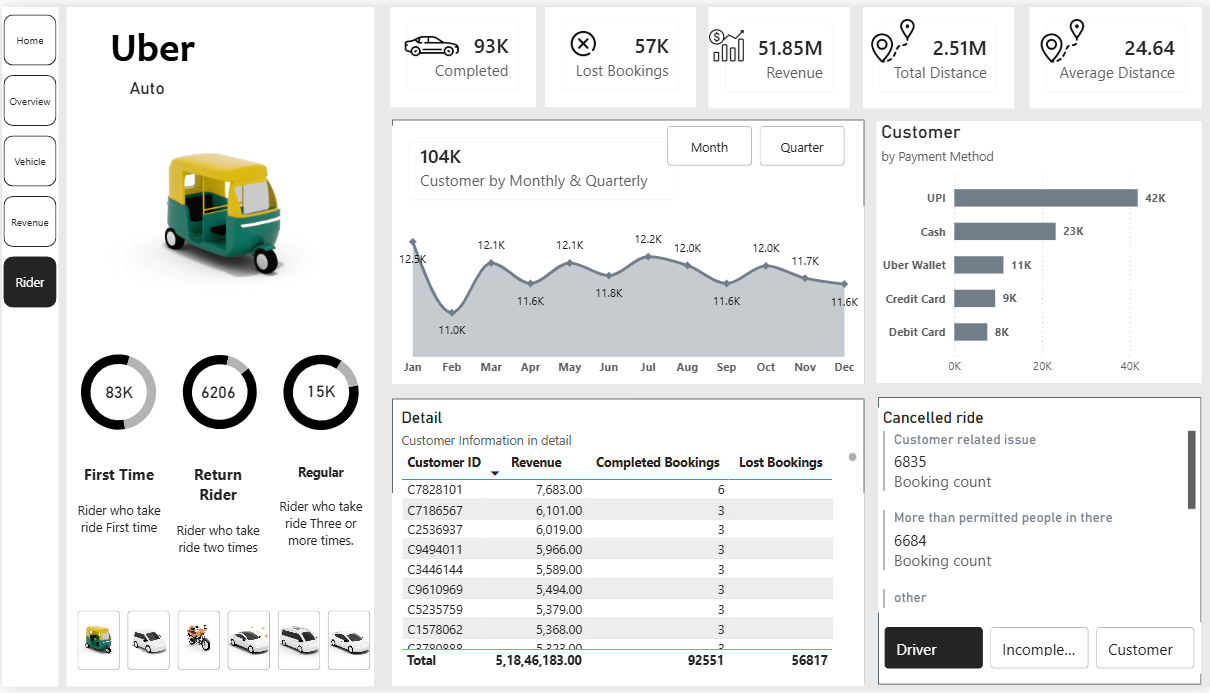

What the dashboard file says about the page in this screenshot:
{"tool":"powerbi","page":{"name":"Rider","canvas":[1280,720],"ordinal":4},"visuals":[{"type":"shape","box":[68.5,0.7,325.4,719],"z":0,"group":"g4"},{"type":"group","id":"g1","title":"Group 2","box":[412,119.5,500,279.4],"z":0,"group":"g5"},{"type":"shape","box":[412,119.5,500,279.4],"z":0,"group":"g1"},{"type":"group","id":"g2","title":"Group 3","box":[413,414.3,500,303.2],"z":0},{"type":"group","id":"g3","title":"Group 2","box":[413,414.3,500,303.2],"z":0,"group":"g2"},{"type":"shape","box":[413,414.3,500,303.2],"z":0,"group":"g3"},{"type":"shape","box":[0,0,59.7,719.4],"z":1000},{"type":"cardVisual","fields":{"Data":["_measure.Customer_count"]},"box":[412,126.3,319.5,96.9],"z":1000,"group":"g5"},{"type":"cardVisual","fields":{"Data":["_measure.Completed Bookings"]},"box":[410.4,0,153.7,106],"z":2000},{"type":"textbox","box":[110.1,12.1,107.1,64.2],"z":2000,"group":"g4"},{"type":"cardVisual","fields":{"Data":["_measure.Lost Bookings"]},"box":[574.6,0,159.7,106],"z":3000},{"type":"cardVisual","fields":{"Data":["_measure.Booking Value"]},"box":[747.8,0,149.3,107.5],"z":4000},{"type":"cardVisual","fields":{"Data":["_measure.Total Distance"]},"box":[910.4,0,159.7,107.5],"z":5000},{"type":"group","id":"g4","title":"Group 1","box":[68.5,0.7,325.4,719],"z":6000},{"type":"cardVisual","fields":{"Data":["_measure.Average Distance"]},"box":[1086.6,0,182.1,107.5],"z":7000},{"type":"advancedSlicerVisual","fields":{"Values":["Img.Img"]},"box":[74.6,633.3,325.4,73],"z":8000},{"type":"cardVisual","fields":{"Data":["Min(Img.Img)"]},"box":[74.6,61.9,319,311.1],"z":9000},{"type":"card","fields":{"Values":["Min(Img.Vehicle Type)"]},"box":[69.8,63.5,166.7,44.4],"z":10000},{"type":"lineChart","fields":{"Category":["calender.Month","calender.Quarter"],"Y":["_measure.Customer_count"]},"box":[412,211.1,500,187.8],"z":10000,"group":"g1"},{"type":"clusteredColumnChart","fields":{"Category":["Uber.Payment Method"]},"box":[413,513.7,500,203.8],"z":10000,"group":"g3"},{"type":"group","id":"g5","title":"Group 3","box":[412,119.5,500,279.4],"z":11000},{"type":"advancedSlicerVisual","fields":{"Values":["Date Axis.Date Axis"]},"box":[698.4,120.6,198.4,52.4],"z":12000},{"type":"textbox","box":[71.4,477.8,104.8,131.7],"z":13000},{"type":"group","id":"g6","title":"Group 4","box":[68.3,342.9,323.8,128.6],"z":14000},{"type":"textbox","box":[176.2,477.8,104.8,131.7],"z":15000},{"type":"textbox","box":[281,477.8,112.7,131.7],"z":16000},{"type":"image","box":[417.5,12.7,74.6,57.1],"z":17000},{"type":"image","box":[734.9,22.2,63.5,36.5],"z":18000},{"type":"image","box":[911.1,12.7,63.5,46],"z":19000},{"type":"image","box":[1090.5,12.7,63.5,46],"z":20000},{"type":"donutChart","fields":{"Y":["_measure.Customer_count","_measure.second_time"]},"box":[176.2,342.9,107.9,128.6],"z":20000,"group":"g6"},{"type":"image","box":[590.5,25.4,49.2,27],"z":21000},{"type":"donutChart","fields":{"Y":["_measure.Customer_count","_measure.Regular"]},"box":[282.6,347.4,109.5,119.6],"z":21000,"group":"g6"},{"type":"donutChart","fields":{"Y":["_measure.Customer_count","_measure.First_time"]},"box":[68.3,342.9,109.5,128.6],"z":22000,"group":"g6"},{"type":"tableEx","title":"Detail","fields":{"Values":["Uber.Customer ID","_measure.Revenue","_measure.Completed Bookings","_measure.Lost Bookings"]},"box":[417.9,424,492.1,281.6],"z":22000},{"type":"clusteredBarChart","title":" Customer ","fields":{"Y":["CountNonNull(Uber.Customer ID)"],"Category":["Uber.Payment Method"]},"box":[925.2,121.1,343.7,277.1],"z":23000},{"type":"shape","box":[926.7,413.4,342.2,304.4],"z":24000},{"type":"advancedSlicerVisual","fields":{"Values":["Parameter 2.Parameter"]},"box":[928.2,651.1,340.7,54.5],"z":25000},{"type":"multiRowCard","title":"Cancelled ride","fields":{"Values":["Uber.Driver Cancellation Reason","_measure.Booking count"]},"box":[926.7,424,340.7,216.5],"z":26000},{"type":"card","fields":{"Values":["_measure.First_time"]},"box":[86.3,372.5,75.7,69.7],"z":27000},{"type":"card","fields":{"Values":["_measure.second_time"]},"box":[189.3,377,78.7,60.6],"z":28000},{"type":"card","fields":{"Values":["_measure.Regular"]},"box":[299.8,381.6,74.2,51.5],"z":29000},{"type":"pageNavigator","box":[1.5,7.5,56.7,310.4],"z":30000}]}

Visuals, with their boxes in screenshot pixels (x1, y1, x2, y2), scaled from the page's 1280x720 canvas onto the 1210x693 screenshot:
shape: (left=65, top=1, right=372, bottom=692)
"Group 2" group: (left=389, top=115, right=862, bottom=384)
shape: (left=389, top=115, right=862, bottom=384)
"Group 3" group: (left=390, top=399, right=863, bottom=691)
"Group 2" group: (left=390, top=399, right=863, bottom=691)
shape: (left=390, top=399, right=863, bottom=691)
shape: (left=0, top=0, right=56, bottom=692)
cardVisual - _measure.Customer_count: (left=389, top=122, right=691, bottom=215)
cardVisual - _measure.Completed Bookings: (left=388, top=0, right=533, bottom=102)
textbox: (left=104, top=12, right=205, bottom=73)
cardVisual - _measure.Lost Bookings: (left=543, top=0, right=694, bottom=102)
cardVisual - _measure.Booking Value: (left=707, top=0, right=848, bottom=103)
cardVisual - _measure.Total Distance: (left=861, top=0, right=1012, bottom=103)
"Group 1" group: (left=65, top=1, right=372, bottom=692)
cardVisual - _measure.Average Distance: (left=1027, top=0, right=1199, bottom=103)
advancedSlicerVisual - Img.Img: (left=71, top=610, right=378, bottom=680)
cardVisual - Min(Img.Img): (left=71, top=60, right=372, bottom=359)
card - Min(Img.Vehicle Type): (left=66, top=61, right=224, bottom=104)
lineChart - calender.Month x calender.Quarter: (left=389, top=203, right=862, bottom=384)
clusteredColumnChart - Uber.Payment Method: (left=390, top=494, right=863, bottom=691)
"Group 3" group: (left=389, top=115, right=862, bottom=384)
advancedSlicerVisual - Date Axis.Date Axis: (left=660, top=116, right=848, bottom=167)
textbox: (left=67, top=460, right=167, bottom=587)
"Group 4" group: (left=65, top=330, right=371, bottom=454)
textbox: (left=167, top=460, right=266, bottom=587)
textbox: (left=266, top=460, right=372, bottom=587)
image: (left=395, top=12, right=465, bottom=67)
image: (left=695, top=21, right=755, bottom=56)
image: (left=861, top=12, right=921, bottom=56)
image: (left=1031, top=12, right=1091, bottom=56)
donutChart - _measure.Customer_count x _measure.second_time: (left=167, top=330, right=269, bottom=454)
image: (left=558, top=24, right=605, bottom=50)
donutChart - _measure.Customer_count x _measure.Regular: (left=267, top=334, right=371, bottom=449)
donutChart - _measure.Customer_count x _measure.First_time: (left=65, top=330, right=168, bottom=454)
"Detail" tableEx: (left=395, top=408, right=860, bottom=679)
" Customer " clusteredBarChart: (left=875, top=117, right=1200, bottom=383)
shape: (left=876, top=398, right=1200, bottom=691)
advancedSlicerVisual - Parameter 2.Parameter: (left=877, top=627, right=1200, bottom=679)
"Cancelled ride" multiRowCard: (left=876, top=408, right=1198, bottom=616)
card - _measure.First_time: (left=82, top=359, right=153, bottom=426)
card - _measure.second_time: (left=179, top=363, right=253, bottom=421)
card - _measure.Regular: (left=283, top=367, right=354, bottom=417)
pageNavigator: (left=1, top=7, right=55, bottom=306)
